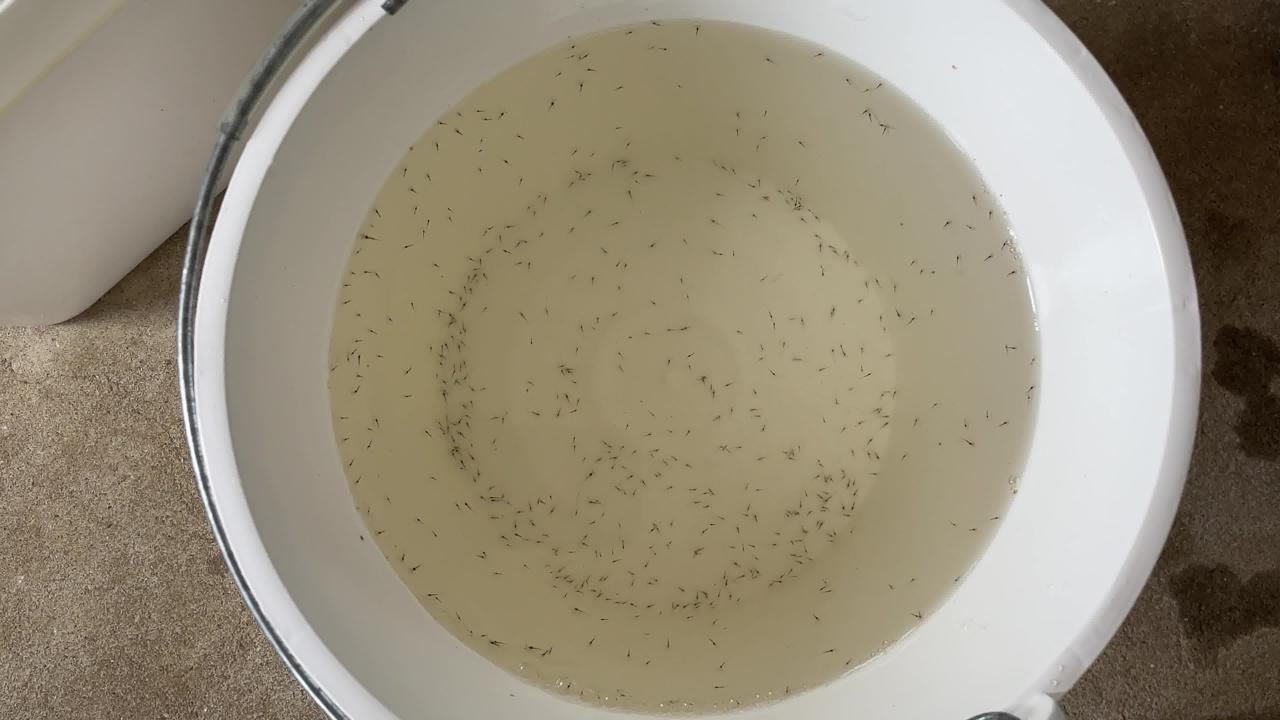shrimp: (966, 200, 978, 208), (983, 213, 995, 221), (998, 245, 1010, 253), (1005, 267, 1017, 275), (1008, 345, 1020, 353), (1002, 345, 1014, 353), (1023, 360, 1035, 368), (1027, 386, 1039, 394), (1022, 396, 1034, 404), (982, 253, 994, 261), (958, 223, 970, 231), (941, 221, 953, 229), (952, 252, 964, 260), (929, 272, 941, 280), (911, 269, 923, 277), (906, 261, 918, 269), (878, 128, 890, 136), (880, 121, 892, 129), (867, 116, 879, 124), (860, 110, 872, 118), (875, 80, 887, 88), (864, 85, 876, 93), (845, 82, 857, 90), (816, 57, 828, 65), (763, 58, 775, 66), (997, 420, 1009, 428), (985, 412, 997, 420), (962, 425, 974, 433), (964, 439, 976, 447), (988, 515, 1000, 523), (967, 525, 979, 533), (950, 521, 962, 529), (949, 579, 961, 587), (905, 578, 917, 586), (915, 611, 927, 619), (909, 611, 921, 619), (883, 585, 895, 593), (842, 658, 854, 666), (826, 650, 838, 658), (808, 619, 820, 627), (823, 589, 835, 597), (816, 585, 828, 593), (821, 580, 833, 588), (714, 686, 726, 694), (719, 660, 731, 668), (711, 640, 723, 648), (659, 643, 671, 651), (638, 662, 650, 670), (622, 651, 634, 659), (617, 693, 629, 701), (667, 700, 679, 708), (546, 648, 558, 656), (535, 653, 547, 661), (561, 682, 573, 690), (575, 690, 587, 698), (526, 647, 538, 655), (491, 636, 503, 644), (485, 645, 497, 653), (479, 634, 491, 642), (579, 638, 591, 646), (931, 403, 943, 411), (911, 417, 923, 425), (900, 450, 912, 458), (925, 310, 937, 318), (906, 317, 918, 325), (894, 313, 906, 321), (888, 285, 900, 293), (874, 281, 886, 289), (860, 283, 872, 291), (875, 315, 887, 323), (879, 327, 891, 335), (882, 354, 894, 362), (887, 392, 899, 400), (876, 394, 888, 402), (882, 412, 894, 420), (878, 423, 890, 431), (875, 409, 887, 417), (871, 405, 883, 413), (872, 454, 884, 462), (862, 450, 874, 458), (869, 469, 881, 477), (866, 436, 878, 444), (856, 419, 868, 427), (864, 372, 876, 380), (855, 367, 867, 375), (857, 348, 869, 356), (852, 297, 864, 305), (850, 261, 862, 269), (844, 257, 856, 265), (839, 251, 851, 259), (831, 254, 843, 262), (827, 247, 839, 255), (815, 246, 827, 254), (812, 237, 824, 245), (809, 215, 821, 223), (804, 206, 816, 214), (796, 220, 808, 228), (792, 208, 804, 216), (792, 205, 804, 213), (795, 199, 807, 207), (791, 196, 803, 204), (786, 197, 798, 205), (782, 202, 794, 210), (785, 192, 797, 200), (789, 180, 801, 188), (792, 138, 804, 146), (761, 113, 773, 121), (757, 133, 769, 141), (774, 185, 786, 193), (757, 197, 769, 205), (755, 179, 767, 187), (756, 143, 768, 151), (743, 182, 755, 190), (731, 132, 743, 140), (731, 111, 743, 119), (726, 168, 738, 176), (718, 163, 730, 171), (751, 212, 763, 220), (815, 270, 827, 278), (828, 310, 840, 318), (840, 349, 852, 357), (827, 347, 839, 355), (844, 385, 856, 393), (833, 400, 845, 408), (834, 422, 846, 430), (817, 416, 829, 424), (850, 450, 862, 458), (851, 491, 863, 499), (849, 479, 861, 487), (840, 482, 852, 490), (838, 474, 850, 482), (836, 468, 848, 476), (826, 478, 838, 486), (809, 472, 821, 480), (816, 476, 828, 484), (823, 477, 835, 485), (817, 464, 829, 472), (811, 457, 823, 465), (849, 503, 861, 511), (837, 504, 849, 512), (842, 512, 854, 520), (845, 529, 857, 537), (815, 509, 827, 517), (818, 504, 830, 512), (821, 497, 833, 505), (819, 492, 831, 500), (814, 496, 826, 504), (798, 489, 810, 497), (832, 528, 844, 536), (826, 533, 838, 541), (824, 540, 836, 548), (818, 521, 830, 529), (812, 518, 824, 526), (802, 510, 814, 518), (795, 501, 807, 509), (798, 527, 810, 535), (792, 538, 804, 546), (799, 544, 811, 552), (803, 553, 815, 561), (785, 553, 797, 561), (795, 556, 807, 564), (785, 569, 797, 577), (787, 576, 799, 584), (776, 572, 788, 580), (771, 579, 783, 587), (765, 585, 777, 593), (767, 542, 779, 550), (792, 509, 804, 517), (784, 509, 796, 517), (780, 513, 792, 521), (770, 533, 782, 541), (745, 545, 757, 553), (736, 546, 748, 554), (728, 544, 740, 552), (749, 554, 761, 562), (726, 559, 738, 567), (743, 566, 755, 574), (750, 567, 762, 575), (747, 574, 759, 582), (733, 572, 745, 580), (718, 568, 730, 576), (722, 577, 734, 585), (724, 590, 736, 598), (731, 595, 743, 603), (714, 591, 726, 599), (706, 599, 718, 607), (701, 590, 713, 598), (690, 593, 702, 601), (692, 600, 704, 608), (691, 606, 703, 614), (685, 602, 697, 610), (671, 604, 683, 612), (665, 603, 677, 611), (680, 615, 692, 623), (708, 620, 720, 628), (597, 615, 609, 623), (566, 608, 578, 616), (454, 616, 466, 624), (463, 627, 475, 635), (431, 597, 443, 605), (420, 592, 432, 600), (408, 565, 420, 573), (392, 557, 404, 565), (476, 555, 488, 563), (477, 549, 489, 557), (489, 574, 501, 582), (515, 563, 527, 571), (541, 568, 553, 576), (548, 575, 560, 583), (551, 567, 563, 575), (561, 573, 573, 581), (563, 579, 575, 587), (558, 594, 570, 602), (573, 587, 585, 595), (576, 581, 588, 589), (581, 578, 593, 586), (587, 590, 599, 598), (594, 594, 606, 602), (602, 597, 614, 605), (615, 600, 627, 608), (630, 617, 642, 625), (646, 604, 658, 612), (629, 602, 641, 610), (675, 588, 687, 596), (797, 444, 809, 452), (787, 446, 799, 454), (777, 449, 789, 457), (783, 451, 795, 459), (785, 460, 797, 468), (816, 365, 828, 373), (797, 320, 809, 328), (784, 316, 796, 324), (791, 359, 803, 367), (780, 342, 792, 350), (766, 326, 778, 334), (763, 312, 775, 320), (754, 277, 766, 285), (690, 31, 702, 39), (646, 19, 658, 27), (623, 30, 635, 38), (654, 45, 666, 53), (643, 43, 655, 51), (672, 83, 684, 91), (668, 155, 680, 163), (711, 190, 723, 198), (707, 220, 719, 228), (707, 249, 719, 257), (725, 250, 737, 258), (731, 328, 743, 336), (756, 343, 768, 351), (756, 356, 768, 364), (766, 366, 778, 374), (749, 386, 761, 394), (741, 405, 753, 413), (748, 414, 760, 422), (754, 423, 766, 431), (754, 457, 766, 465), (751, 488, 763, 496), (739, 484, 751, 492), (750, 512, 762, 520), (743, 507, 755, 515), (740, 515, 752, 523), (731, 528, 743, 536), (734, 447, 746, 455), (719, 450, 731, 458), (715, 444, 727, 452), (725, 408, 737, 416), (704, 417, 716, 425), (726, 382, 738, 390), (707, 395, 719, 403), (703, 385, 715, 393), (693, 375, 705, 383), (681, 363, 693, 371), (684, 350, 696, 358), (678, 326, 690, 334), (661, 325, 673, 333), (679, 294, 691, 302), (673, 275, 685, 283), (680, 232, 692, 240), (646, 244, 658, 252), (643, 172, 655, 180), (630, 178, 642, 186), (629, 168, 641, 176), (623, 189, 635, 197), (620, 159, 632, 167), (612, 156, 624, 164), (606, 166, 618, 174), (618, 145, 630, 153), (610, 128, 622, 136), (617, 85, 629, 93), (582, 66, 594, 74), (580, 54, 592, 62), (565, 53, 577, 61), (568, 42, 580, 50), (574, 83, 586, 91), (549, 73, 561, 81), (542, 99, 554, 107), (494, 113, 506, 121), (477, 118, 489, 126), (472, 107, 484, 115), (456, 112, 468, 120), (435, 119, 447, 127), (452, 129, 464, 137), (430, 147, 442, 155), (394, 171, 406, 179), (421, 174, 433, 182), (404, 188, 416, 196), (410, 207, 422, 215), (444, 202, 456, 210), (476, 134, 488, 142), (475, 149, 487, 157), (474, 167, 486, 175), (515, 134, 527, 142), (567, 148, 579, 156), (584, 152, 596, 160), (567, 167, 579, 175), (572, 172, 584, 180), (581, 169, 593, 177), (576, 176, 588, 184), (563, 180, 575, 188), (495, 158, 507, 166), (513, 176, 525, 184), (531, 193, 543, 201), (540, 194, 552, 202), (577, 209, 589, 217), (607, 222, 619, 230), (594, 251, 606, 259), (607, 258, 619, 266), (617, 262, 629, 270), (643, 297, 655, 305), (642, 332, 654, 340), (661, 357, 673, 365), (684, 431, 696, 439), (663, 428, 675, 436), (681, 463, 693, 471), (704, 486, 716, 494), (703, 493, 715, 501), (700, 489, 712, 497), (699, 503, 711, 511), (689, 503, 701, 511), (686, 486, 698, 494), (716, 514, 728, 522), (704, 521, 716, 529), (696, 530, 708, 538), (692, 545, 704, 553), (688, 551, 700, 559), (666, 538, 678, 546), (662, 540, 674, 548), (644, 545, 656, 553), (650, 551, 662, 559), (640, 564, 652, 572), (645, 576, 657, 584), (643, 583, 655, 591), (625, 571, 637, 579), (625, 584, 637, 592), (601, 577, 613, 585), (588, 579, 600, 587), (659, 521, 671, 529), (649, 526, 661, 534), (649, 526, 661, 534), (665, 485, 677, 493), (671, 456, 683, 464), (657, 463, 669, 471), (654, 471, 666, 479), (649, 475, 661, 483), (649, 444, 661, 452), (646, 452, 658, 460), (642, 432, 654, 440), (643, 413, 655, 421), (617, 343, 629, 351), (613, 364, 625, 372), (608, 310, 620, 318), (606, 282, 618, 290), (587, 280, 599, 288), (563, 279, 575, 287), (590, 314, 602, 322), (584, 324, 596, 332), (575, 330, 587, 338), (571, 347, 583, 355), (560, 362, 572, 370), (562, 367, 574, 375), (555, 371, 567, 379), (553, 363, 565, 371), (569, 377, 581, 385), (568, 396, 580, 404), (565, 409, 577, 417), (559, 397, 571, 405), (551, 396, 563, 404), (552, 408, 564, 416), (527, 412, 539, 420), (518, 387, 530, 395), (523, 376, 535, 384), (618, 421, 630, 429), (628, 449, 640, 457), (619, 445, 631, 453), (601, 443, 613, 451), (596, 439, 608, 447), (603, 448, 615, 456), (593, 456, 605, 464), (606, 453, 618, 461), (607, 461, 619, 469), (615, 461, 627, 469), (636, 476, 648, 484), (624, 470, 636, 478), (630, 489, 642, 497), (621, 486, 633, 494), (608, 482, 620, 490), (582, 471, 594, 479), (578, 460, 590, 468), (568, 448, 580, 456), (566, 438, 578, 446), (618, 539, 630, 547), (605, 561, 617, 569), (606, 552, 618, 560), (614, 522, 626, 530), (582, 501, 594, 509), (589, 496, 601, 504), (596, 514, 608, 522), (580, 524, 592, 532), (597, 551, 609, 559), (582, 533, 594, 541), (586, 520, 598, 528), (589, 548, 601, 556), (582, 539, 594, 547), (565, 551, 577, 559), (548, 550, 560, 558), (569, 511, 581, 519), (544, 510, 556, 518), (372, 206, 384, 214), (355, 232, 367, 240), (350, 247, 362, 255), (346, 271, 358, 279), (341, 282, 353, 290), (341, 298, 353, 306), (325, 365, 337, 373), (336, 419, 348, 427), (337, 436, 349, 444), (342, 459, 354, 467), (350, 475, 362, 483), (365, 508, 377, 516), (370, 526, 382, 534), (381, 497, 393, 505), (414, 520, 426, 528), (428, 531, 440, 539), (465, 504, 477, 512), (448, 504, 460, 512), (422, 475, 434, 483), (421, 428, 433, 436), (372, 416, 384, 424), (360, 428, 372, 436), (360, 442, 372, 450), (347, 387, 359, 395), (350, 376, 362, 384), (354, 360, 366, 368), (348, 350, 360, 358), (339, 358, 351, 366), (352, 337, 364, 345), (363, 325, 375, 333), (357, 269, 369, 277), (370, 268, 382, 276), (351, 311, 363, 319), (374, 354, 386, 362), (402, 368, 414, 376), (398, 388, 410, 396), (382, 317, 394, 325), (404, 302, 416, 310), (398, 251, 410, 259), (415, 230, 427, 238), (426, 217, 438, 225), (440, 215, 452, 223), (520, 205, 532, 213), (532, 210, 544, 218), (567, 227, 579, 235), (543, 306, 555, 314), (515, 314, 527, 322), (523, 340, 535, 348), (495, 418, 507, 426), (487, 413, 499, 421), (525, 264, 537, 272), (513, 260, 525, 268), (521, 238, 533, 246), (535, 227, 547, 235), (497, 223, 509, 231), (484, 226, 496, 234), (492, 236, 504, 244), (500, 251, 512, 259), (480, 248, 492, 256), (459, 257, 471, 265), (473, 258, 485, 266), (432, 263, 444, 271), (467, 272, 479, 280), (459, 271, 471, 279), (479, 270, 491, 278), (468, 285, 480, 293), (459, 280, 471, 288), (442, 292, 454, 300), (452, 297, 464, 305), (458, 301, 470, 309), (479, 309, 491, 317), (432, 311, 444, 319), (433, 307, 445, 315), (443, 310, 455, 318), (444, 322, 456, 330), (461, 325, 473, 333), (454, 329, 466, 337), (445, 330, 457, 338), (440, 338, 452, 346), (433, 342, 445, 350), (423, 343, 435, 351), (436, 349, 448, 357), (434, 360, 446, 368), (429, 371, 441, 379), (462, 337, 474, 345), (452, 345, 464, 353), (459, 360, 471, 368), (452, 364, 464, 372), (446, 367, 458, 375), (458, 374, 470, 382), (452, 379, 464, 387), (440, 378, 452, 386), (437, 394, 449, 402), (440, 387, 452, 395), (451, 379, 463, 387), (475, 385, 487, 393), (536, 500, 548, 508), (464, 399, 476, 407), (530, 496, 542, 504), (465, 388, 477, 396), (522, 503, 534, 511), (463, 412, 475, 420), (489, 441, 501, 449), (536, 531, 548, 539), (513, 509, 525, 517), (526, 520, 538, 528), (535, 540, 547, 548), (496, 534, 508, 542), (519, 536, 531, 544), (501, 543, 513, 551), (508, 523, 520, 531), (483, 516, 495, 524), (511, 534, 523, 542), (489, 498, 501, 506), (435, 430, 447, 438), (432, 421, 444, 429), (455, 415, 467, 423), (463, 424, 475, 432), (440, 414, 452, 422), (449, 422, 461, 430), (440, 427, 452, 435), (454, 433, 466, 441), (465, 444, 477, 452), (444, 436, 456, 444), (451, 443, 463, 451), (481, 483, 493, 491), (473, 472, 485, 480), (496, 495, 508, 503), (505, 502, 517, 510), (477, 497, 489, 505), (468, 481, 480, 489), (465, 458, 477, 466), (458, 463, 470, 471), (446, 456, 458, 464), (447, 448, 459, 456)
